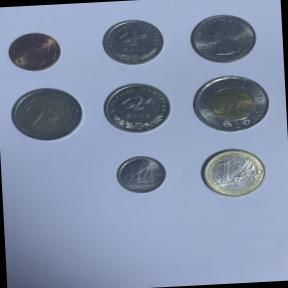1 Euro: (196, 144, 272, 201)
2 Euro: (6, 82, 88, 144)
Canda-10cent-: (113, 152, 171, 198)
Canda-2Dollar-: (188, 70, 276, 138)
Croatia-2Kune-: (99, 79, 174, 138)
US-1cent-: (5, 28, 64, 75)
US-25cent-: (184, 10, 262, 67)
